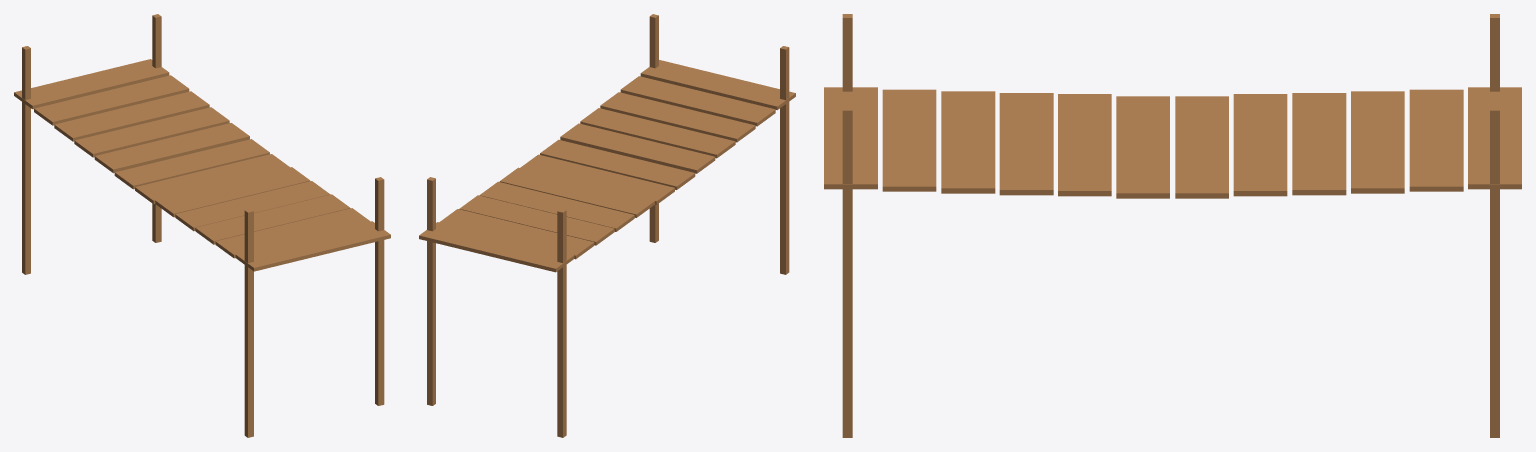
File: Pier (3).fbx
3 renders of one model, left to right at view 1: azimuth 30°, elevation 25°; view 2: azimuth 150°, elevation 25°; view 3: azimuth 270°, elevation 25°, orthographic. The views are drawn at different scales.
Parts seen in each view (by area): view 1: Pier.001; view 2: Pier.001; view 3: Pier.001.
Part boxes in pixels (x1,y1,x2,y2): Pier.001: (14, 14, 390, 437); Pier.001: (419, 14, 795, 437); Pier.001: (824, 14, 1521, 437).
Size of the model in its own units: 10.21 by 16.06 by 31.03.
